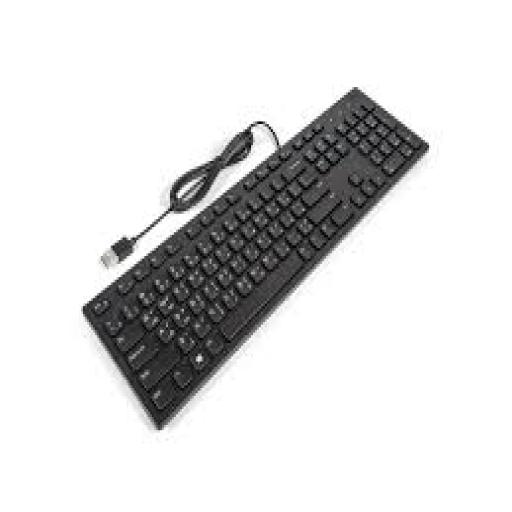KEYBOARD-2: (85, 87, 427, 425)
